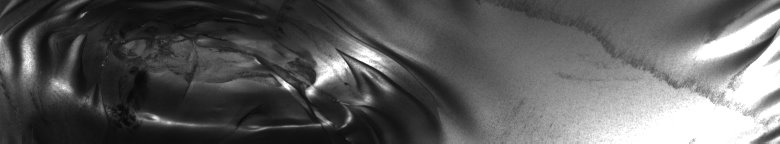ke: (4, 4, 428, 136)
